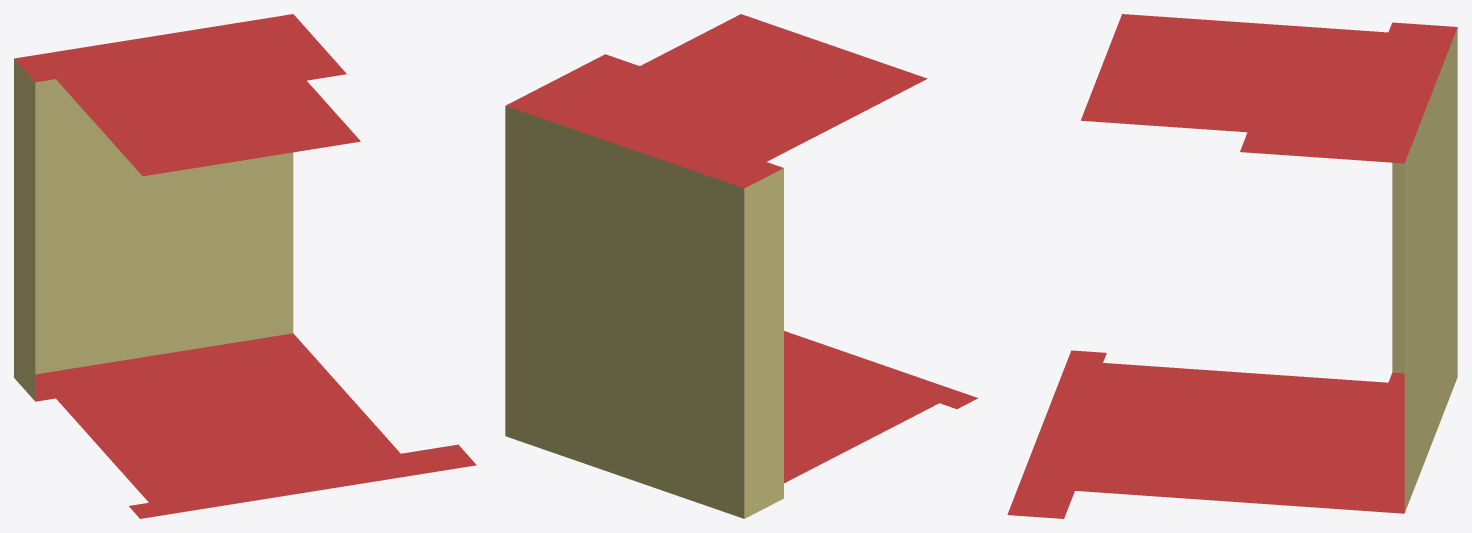
The picture shows the model from 3 angles, left to right: view 1: azimuth 30°, elevation 25°; view 2: azimuth 150°, elevation 25°; view 3: azimuth 270°, elevation 25°; orthographic projection. The views are drawn at different scales.
Size of the model in its own units: 6.32 by 7.14 by 6.13.
